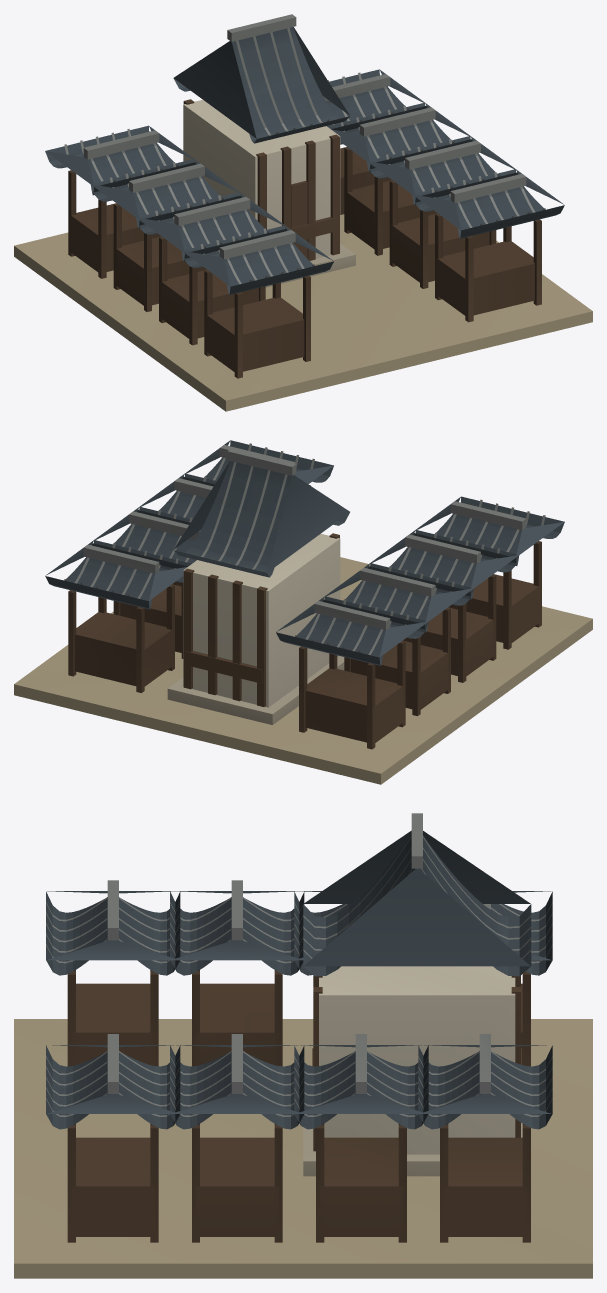
File: market-3.glb
3 renders of one model, top to bottom at view 1: azimuth 30°, elevation 25°; view 2: azimuth 150°, elevation 25°; view 3: azimuth 270°, elevation 25°, orthographic. The views are drawn at different scales.
Parts seen in each view (by area): view 1: market 3 3, market 3 2, market 3 4, market 3 5, market 3 1, market 3 0; view 2: market 3 2, market 3 3, market 3 4, market 3 1, market 3 5, market 3 0; view 3: market 3 2, market 3 4, market 3 3, market 3 1, market 3 5, market 3 0.
Boxes of the visible parts, box(x1,y1,x2,y2) form: market 3 3: box(68, 99, 541, 378); market 3 2: box(45, 27, 564, 294); market 3 4: box(14, 214, 592, 411); market 3 5: box(64, 14, 545, 284); market 3 1: box(183, 99, 340, 258); market 3 0: box(265, 243, 355, 287); market 3 2: box(45, 440, 564, 665); market 3 3: box(68, 485, 541, 749); market 3 4: box(14, 557, 592, 784); market 3 1: box(183, 533, 340, 707); market 3 5: box(64, 443, 545, 655); market 3 0: box(167, 656, 344, 724); market 3 2: box(46, 830, 552, 1129); market 3 4: box(14, 1019, 592, 1278); market 3 3: box(67, 970, 530, 1242); market 3 1: box(319, 966, 515, 1154); market 3 5: box(46, 813, 552, 1116); market 3 0: box(303, 1123, 522, 1176).
Size of the model in its own units: 2.8 by 1.72 by 2.8.
